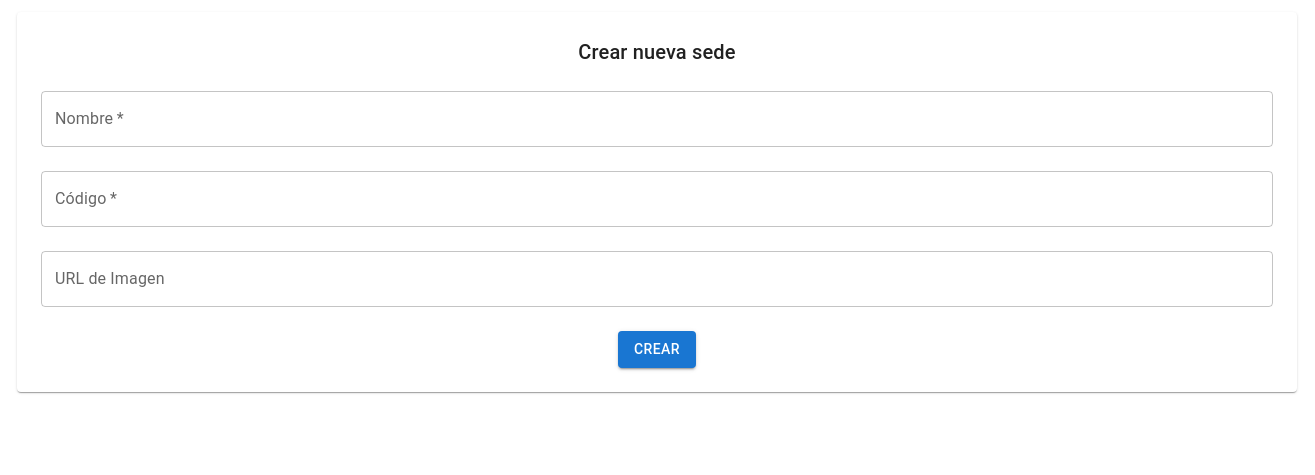
Test: LocationForm › muestra error si createLocation falla
In the field labelled "Nombre *": (657, 119) [41,91,1273,147], type "Sede 1"
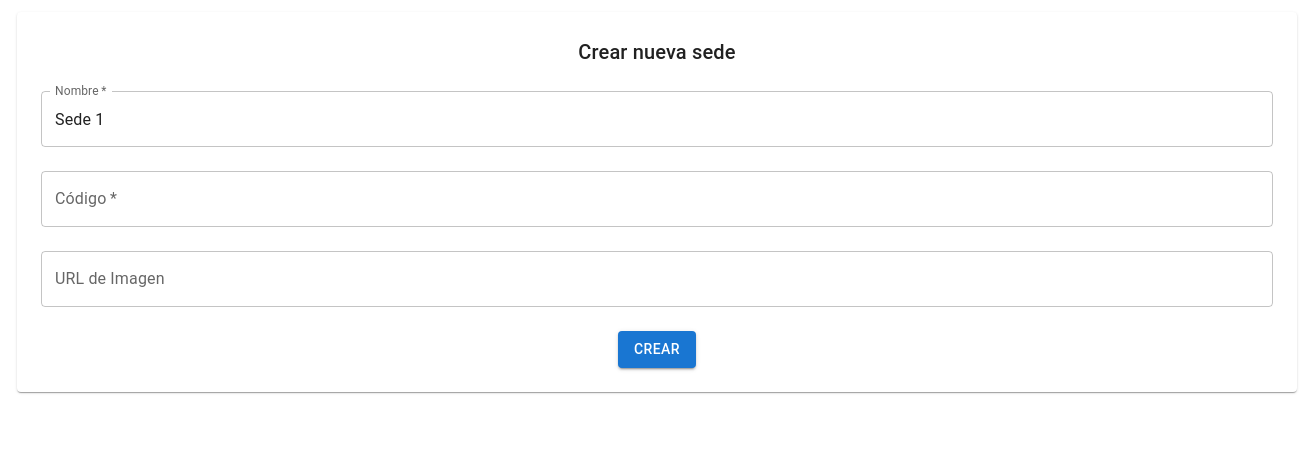
In the field labelled "Código *": (657, 199) [41,171,1273,227], type "ABC123"
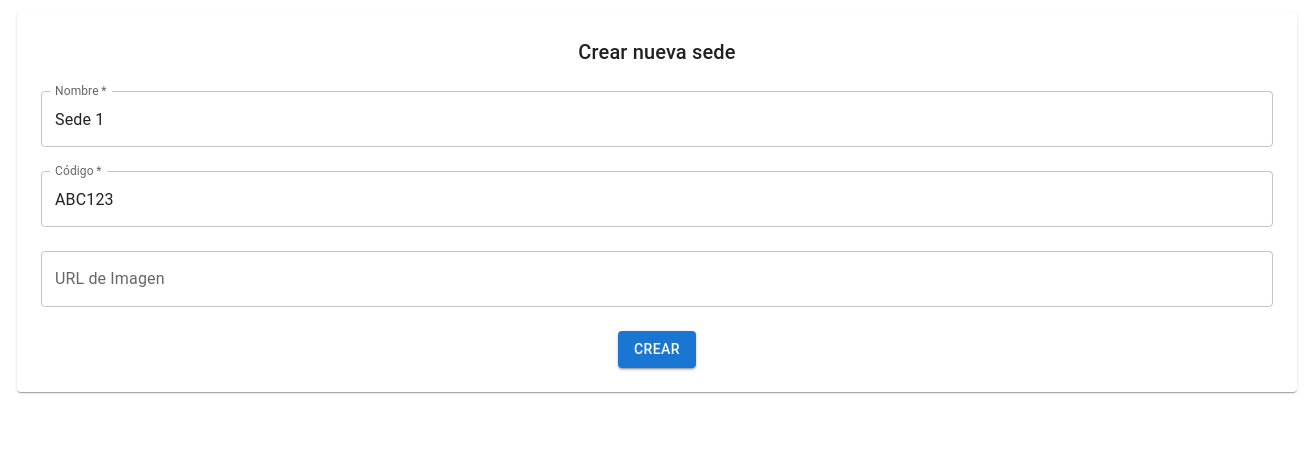
Click the button "Crear": (657, 349) [618,331,696,368]
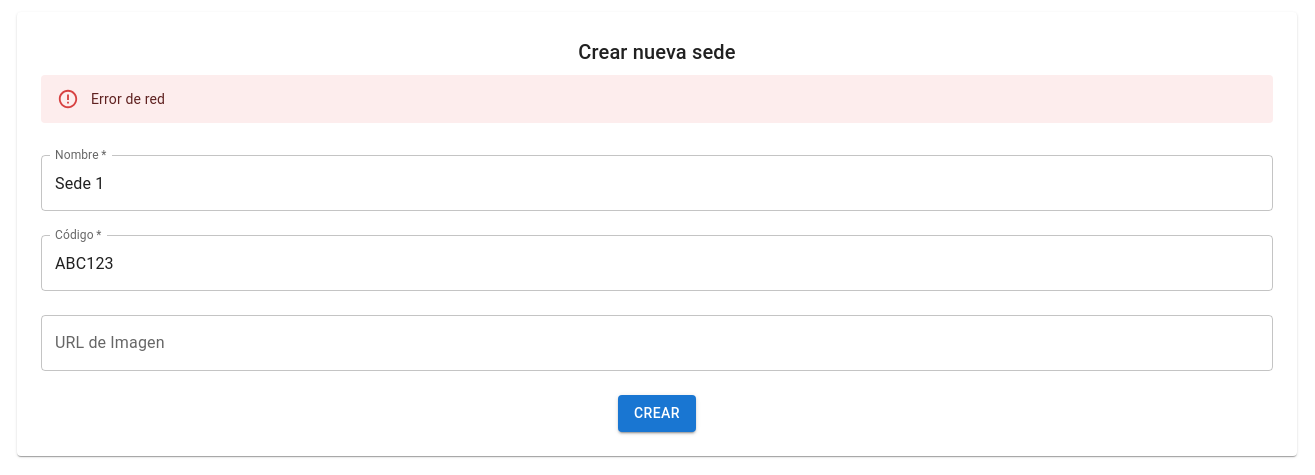
Now the text "Error de red" is shown, box [91,91,165,107]
